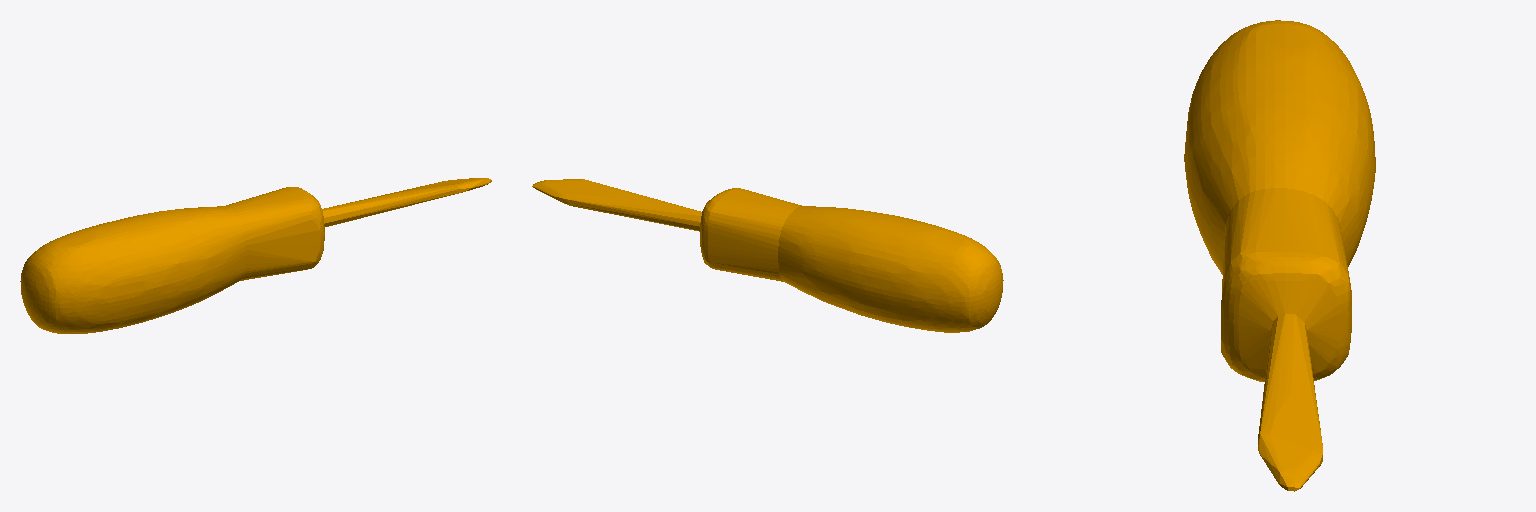
URDF robot description (short_screwdriver):
<?xml version="1.0"?>
<robot name="short_screwdriver">
  <link name="short_screwdriver">
    <visual>
      <origin xyz="0 0 0" rpy="0 0 0"/>
      <geometry>
        <mesh filename="short_screwdriver.obj" scale="1 1 1"/>
      </geometry>
    </visual>
    <collision>
      <origin xyz="0 0 0" rpy="0 0 0"/>
      <geometry>
        <mesh filename="short_screwdriver.obj" scale="1 1 1"/>
      </geometry>
    </collision>
    <inertial>
      <density value="400.0"/>
    </inertial>
  </link>
</robot>

--- Facts derived from the render (not from the file) ---
The picture shows the robot from 3 angles, left to right: view 1: azimuth 30°, elevation 25°; view 2: azimuth 150°, elevation 25°; view 3: azimuth 270°, elevation 25°; orthographic projection.
Robot: short_screwdriver — 1 links, 0 joints (none); root link short_screwdriver; default pose: all joints at 0.
Links seen in each view (by area): view 1: short_screwdriver; view 2: short_screwdriver; view 3: short_screwdriver.
Link boxes in pixels (<box>): short_screwdriver: <box>20,178,491,333</box>; short_screwdriver: <box>532,179,1003,332</box>; short_screwdriver: <box>1184,20,1375,491</box>.
Bounding box of the posed robot: 0.1909 × 0.0372 × 0.0372 m (x, y, z).
1 mesh visuals loaded from 1 distinct referenced files (1 OBJ).
